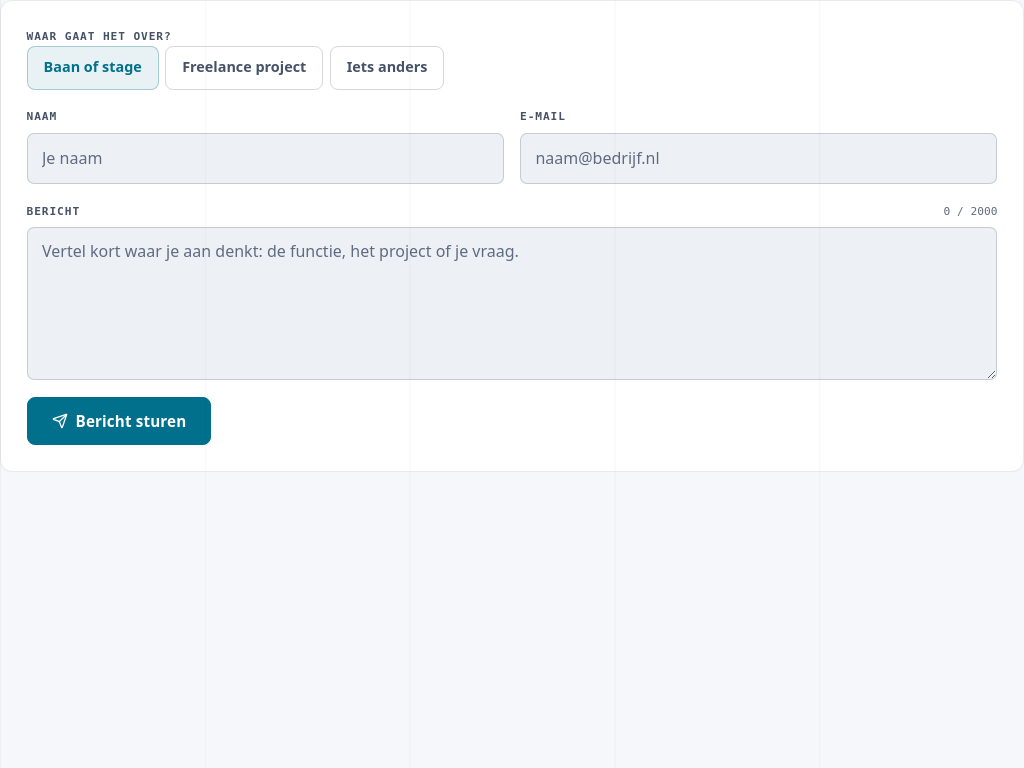
ContactForm › legt uit dat je even moet wachten als EmailJS de throttle raakt
This screenshot has width=1024, height=768.
Click the radio button labelled "Freelance project": x=244, y=68 [165,46,323,90]
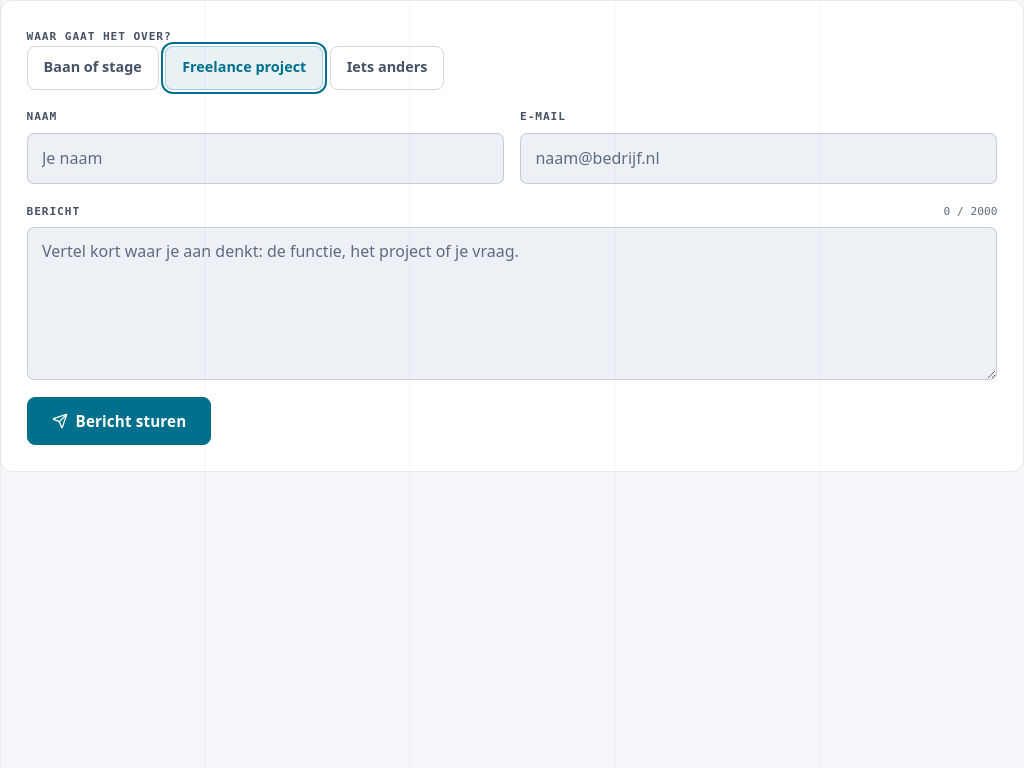
In the field labelled "Naam": x=265, y=158 [27,133,504,184], type "Sanne de Vries"
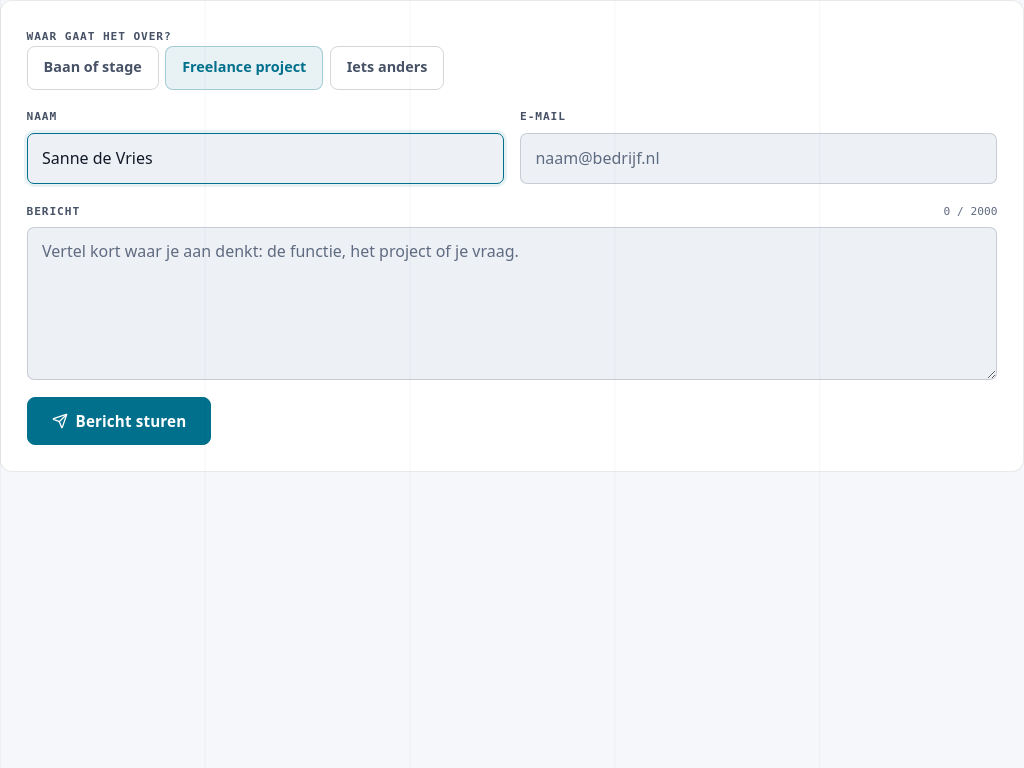
In the field labelled "E-mail": x=759, y=158 [520,133,997,184], type "sanne@bedrijf.nl"
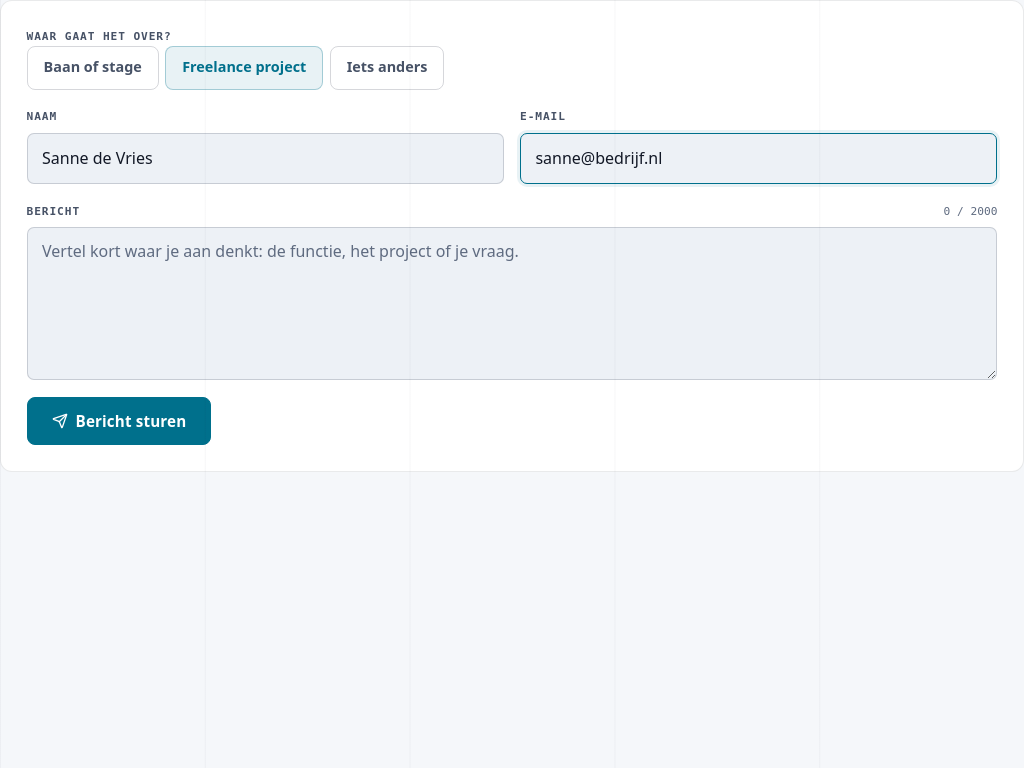
In the text box labelled "Bericht": x=512, y=303 [27,227,997,380], type "We zoeken een developer voor een React-project."
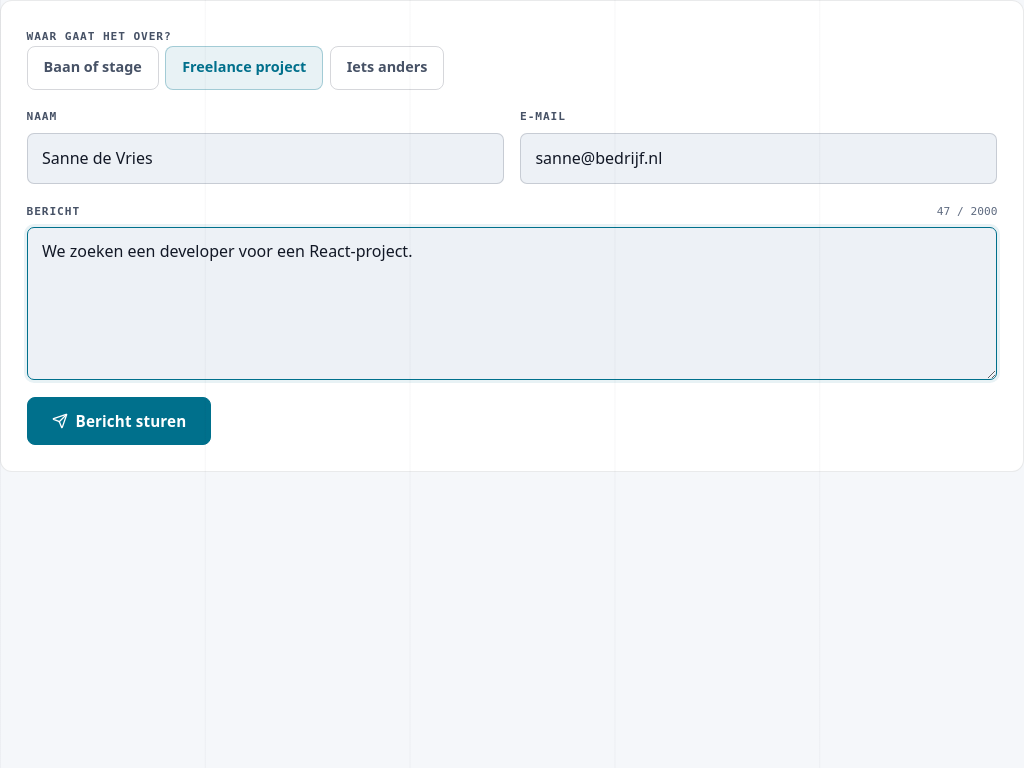
Click the button "Bericht sturen": x=119, y=421 [27,397,211,445]
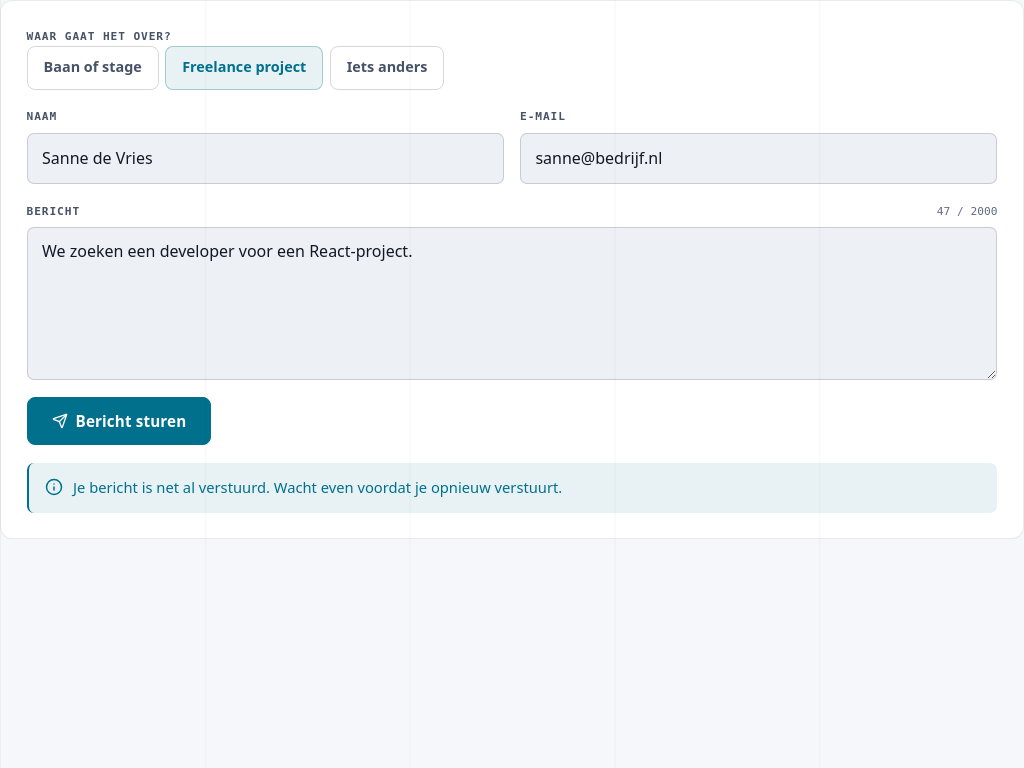
Result: the text "Wacht even" is shown at [73,477,562,497]
